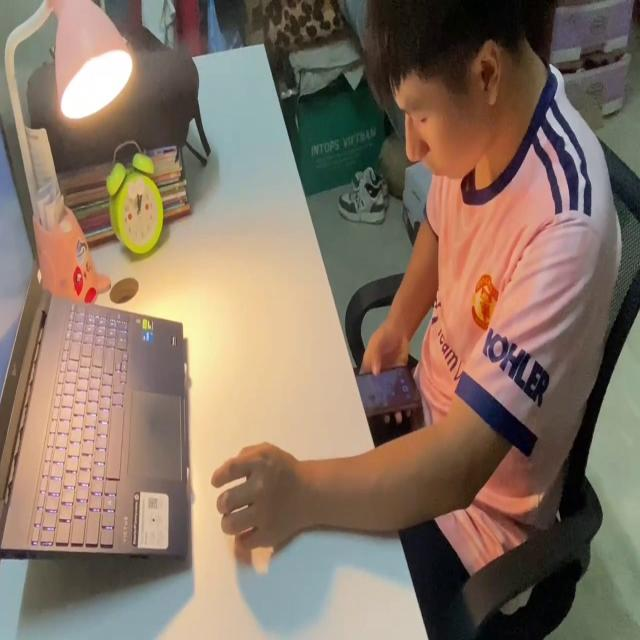laptop: (0, 119, 196, 572)
student: (211, 1, 622, 600)
